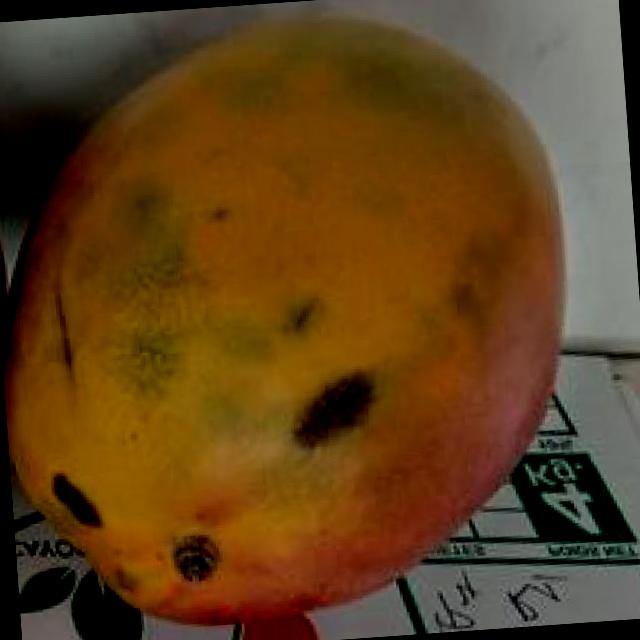Mango: (0, 0, 594, 621)
